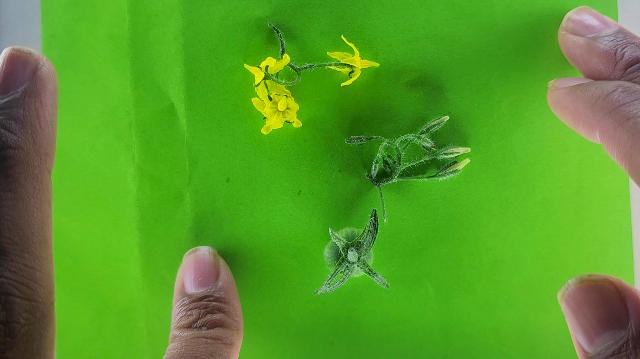Anthesis: (242, 55, 300, 133), (325, 33, 381, 87)
Flower Bud: (414, 115, 451, 137), (344, 134, 382, 144), (443, 160, 468, 174), (439, 146, 471, 156)
Fruit Maturation: (323, 229, 372, 277)
